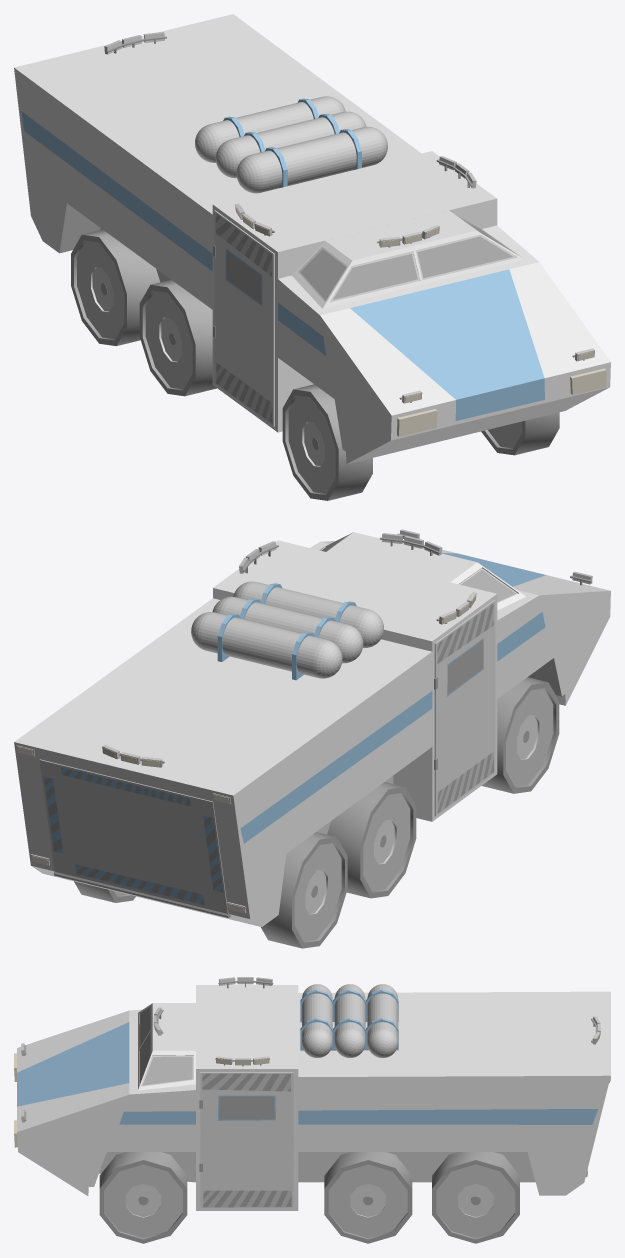
The model's file is kar_2.fbx.
3 views of the same model, one above another, from view 1: azimuth 30°, elevation 25°; view 2: azimuth 150°, elevation 25°; view 3: azimuth 270°, elevation 25° (orthographic). The views are drawn at different scales.
Parts seen in each view (by area): view 1: Cylinder_1, Boole_2_4, Boole_2_5, Boole_2_6, Boole_2_3; view 2: Cylinder_1, Boole_2_5, Boole_2_4, Boole_2_6, Boole_2; view 3: Cylinder_1, Boole_2_3, Boole_2_2, Boole_2.
Part boxes in pixels (x1=…): Cylinder_1: x1=14, y1=14, x2=610, y2=464; Boole_2_4: x1=71, y1=229, x2=159, y2=346; Boole_2_5: x1=139, y1=279, x2=216, y2=396; Boole_2_6: x1=282, y1=384, x2=372, y2=500; Boole_2_3: x1=481, y1=412, x2=559, y2=455; Cylinder_1: x1=14, y1=529, x2=610, y2=926; Boole_2_5: x1=327, y1=782, x2=416, y2=898; Boole_2_4: x1=261, y1=832, x2=347, y2=948; Boole_2_6: x1=482, y1=677, x2=559, y2=793; Boole_2: x1=74, y1=881, x2=135, y2=902; Cylinder_1: x1=14, y1=977, x2=610, y2=1210; Boole_2_3: x1=99, y1=1152, x2=187, y2=1243; Boole_2_2: x1=324, y1=1152, x2=412, y2=1243; Boole_2: x1=432, y1=1152, x2=519, y2=1243.
Bounding box in the file's own units: 305 × 328 × 900.
